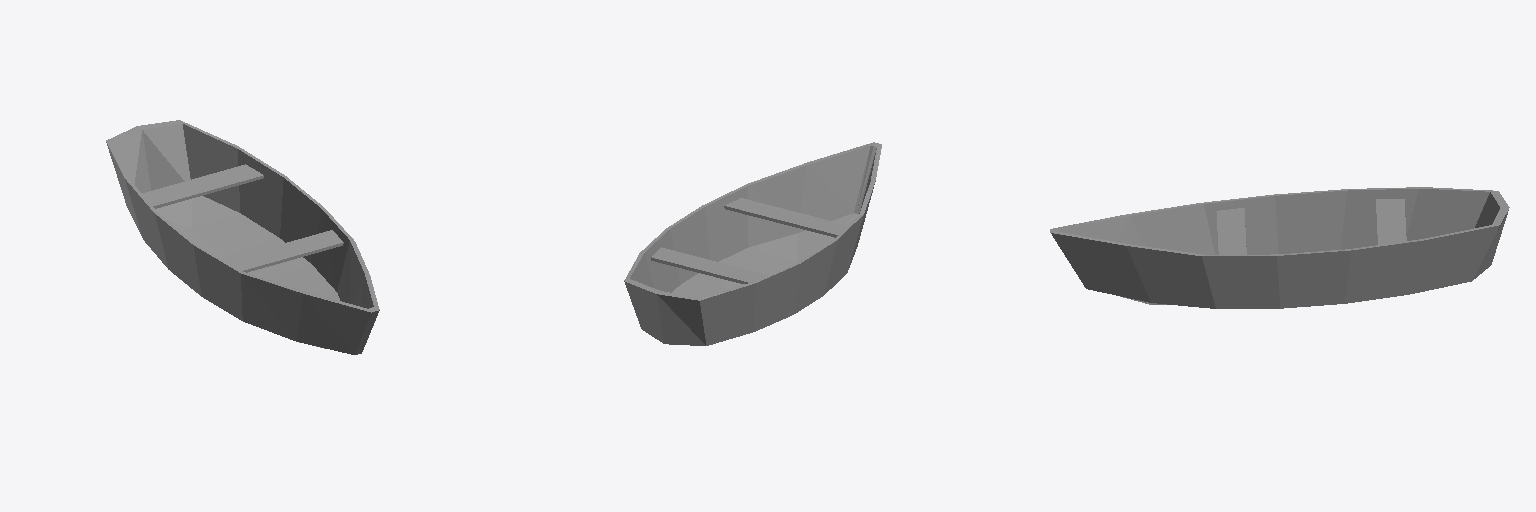
Rendered from boat.obj.
3 views of the same model, side by side, from view 1: azimuth 30°, elevation 25°; view 2: azimuth 150°, elevation 25°; view 3: azimuth 270°, elevation 25° (orthographic).
Visible parts, largest first — view 1: Cube; view 2: Cube; view 3: Cube.
Boxes of the visible parts, x1,y1,x2,y2 form: Cube: [106, 120, 379, 354]; Cube: [624, 142, 881, 345]; Cube: [1050, 187, 1509, 308].
Bounding box in the file's own units: 4.96 × 3.32 × 14.66.